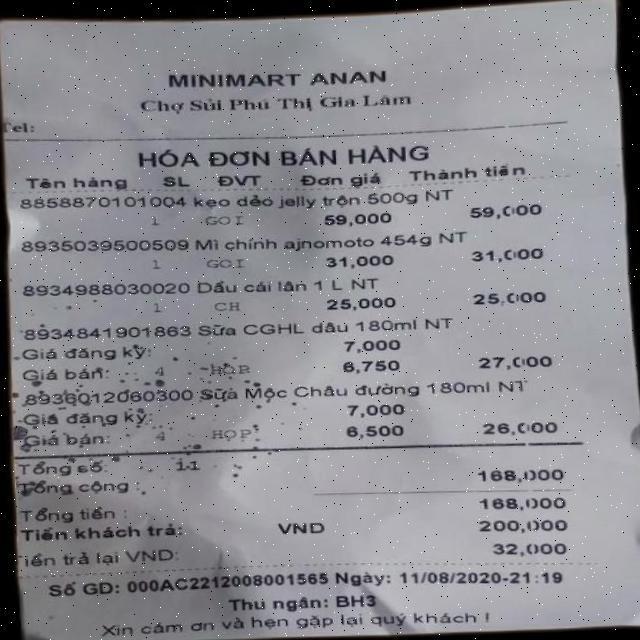Date: (398, 566, 502, 592)
Store_Name: (136, 42, 410, 96)
amount_number: (466, 484, 573, 516)
label_total: (17, 498, 130, 530)
